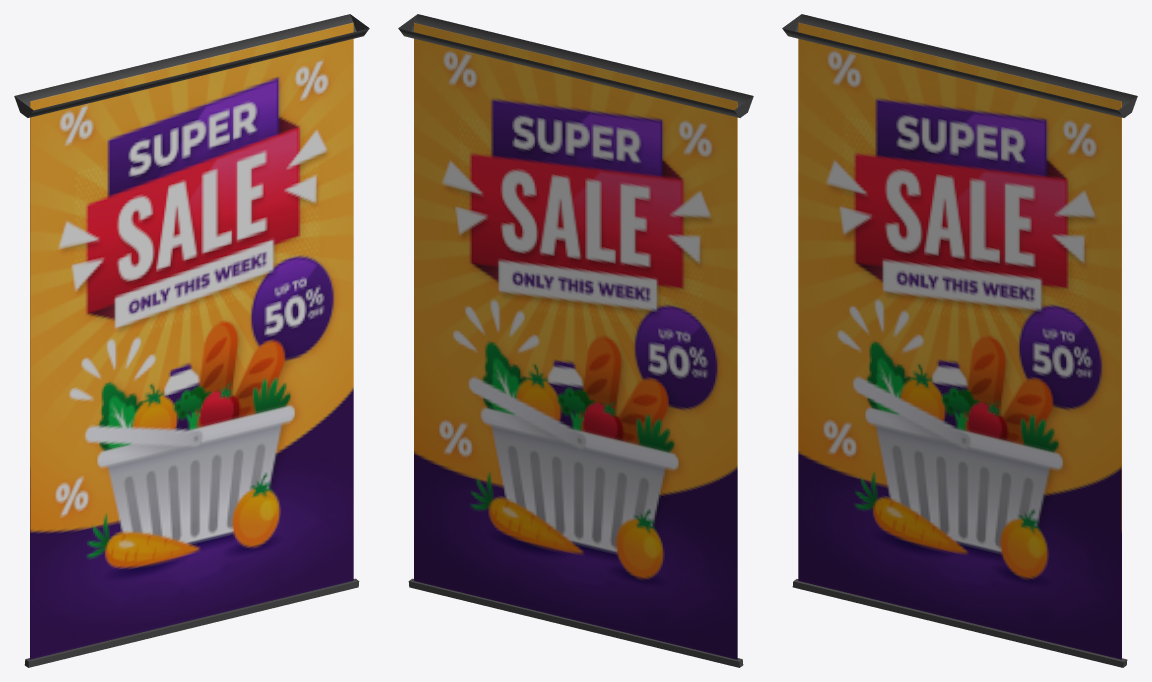
File: SaleBannerC.fbx
The picture shows the model from 3 angles, left to right: view 1: azimuth 30°, elevation 25°; view 2: azimuth 150°, elevation 25°; view 3: azimuth 330°, elevation 25°; orthographic projection.
Visible parts, largest first — view 1: SaleBannerC; view 2: SaleBannerC; view 3: SaleBannerC.
Part boxes in pixels (box(x1,y1,x2,y2)): SaleBannerC: box(14, 14, 369, 667); SaleBannerC: box(398, 14, 753, 667); SaleBannerC: box(782, 14, 1137, 667).
Size of the model in its own units: 72.3 by 116 by 7.3.
